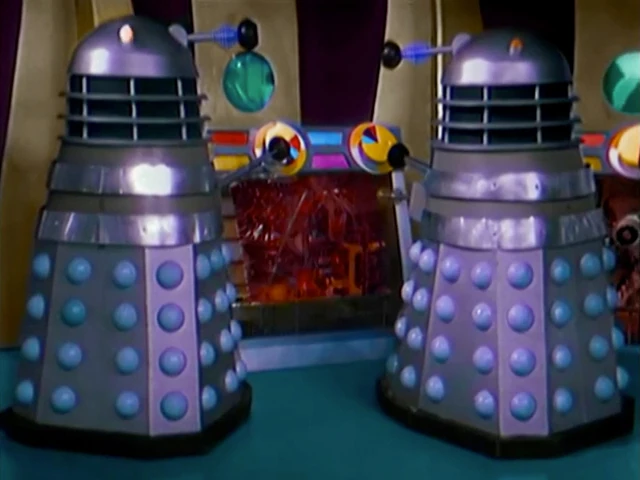Dalek: (379, 24, 640, 461), (11, 8, 268, 440)
